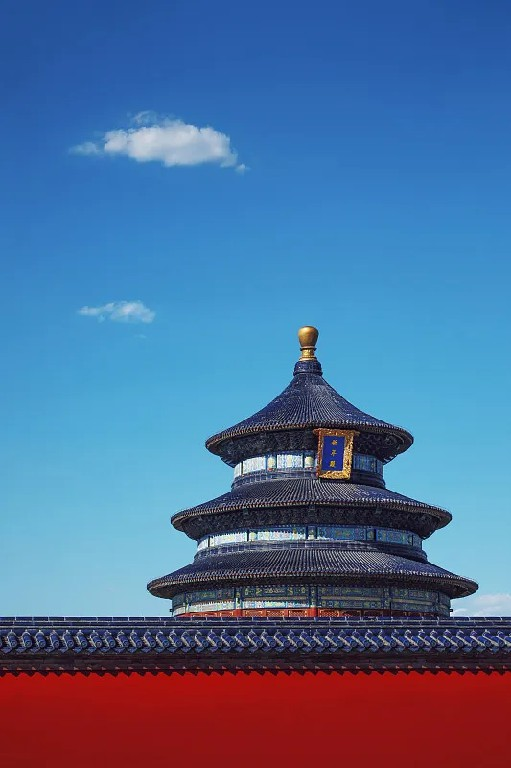Heaven: (147, 323, 479, 618)
